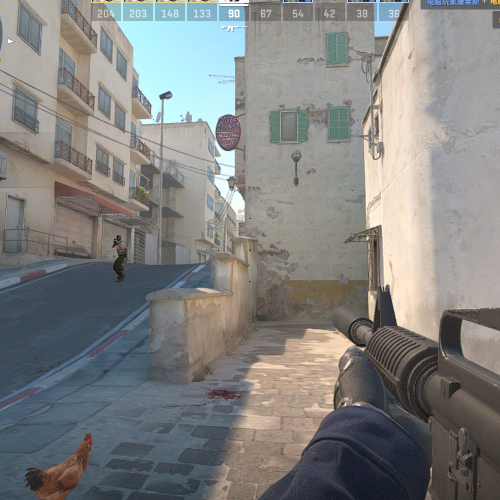chicken: (27, 432, 93, 497)
t_body: (111, 235, 129, 284)
t_head: (115, 235, 121, 242)
